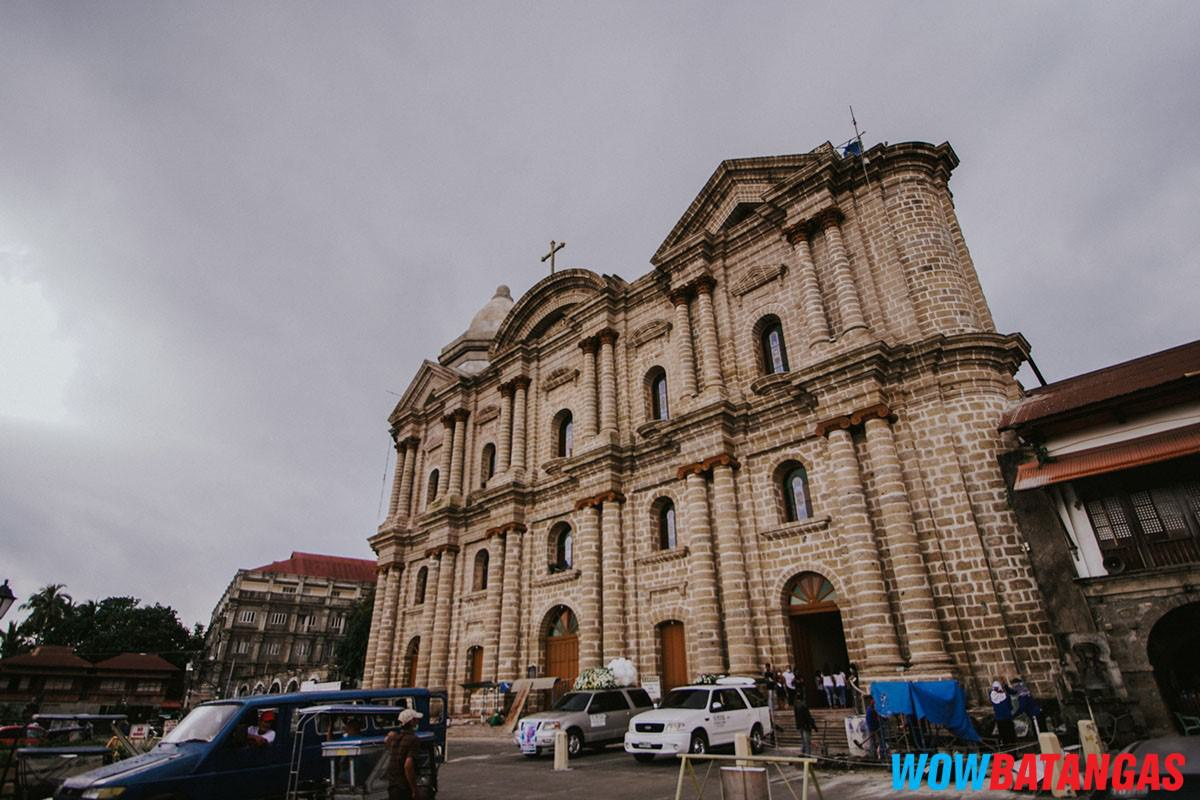taal_basilica_church_taal_batangas: (351, 98, 1070, 734)
